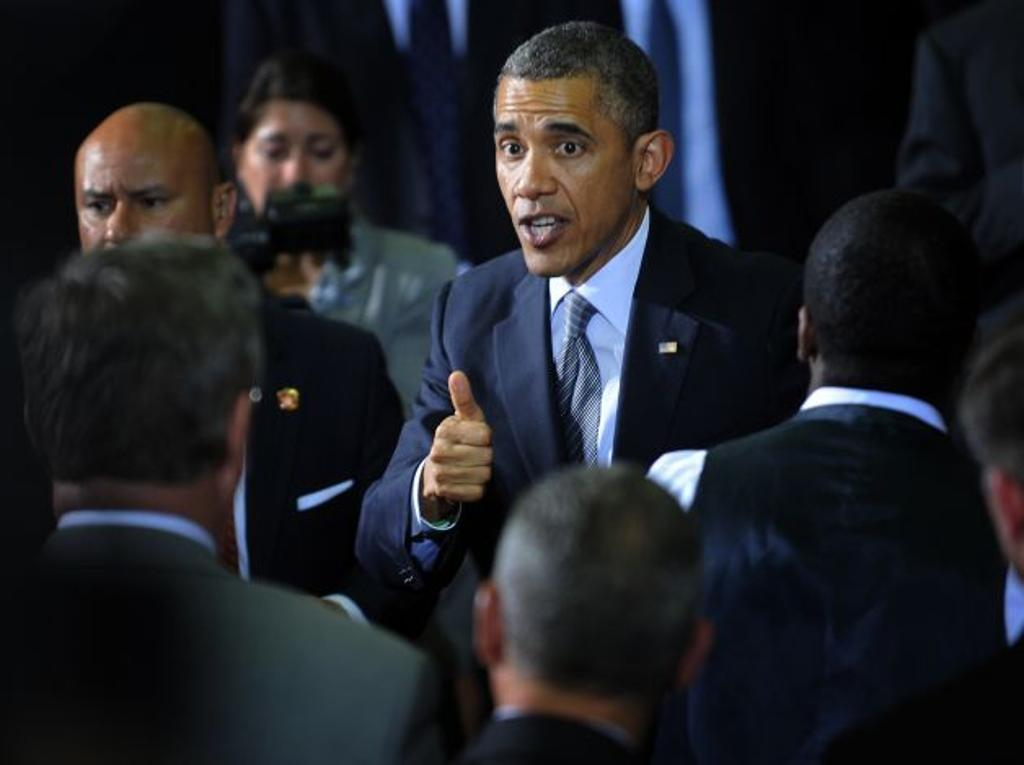face: (494, 76, 628, 274), (74, 116, 214, 294), (240, 96, 346, 236)
